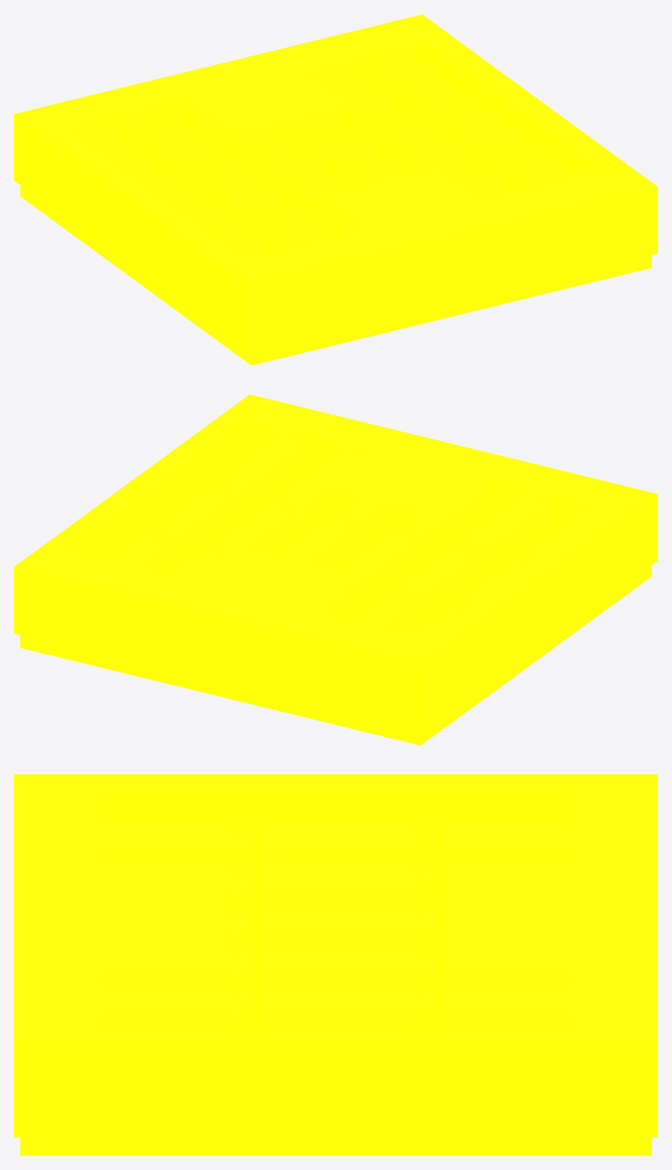
The model's file is cracker-box-christmas.glb.
3 renders of one model, top to bottom at view 1: azimuth 30°, elevation 25°; view 2: azimuth 150°, elevation 25°; view 3: azimuth 270°, elevation 25°, orthographic. The views are drawn at different scales.
Parts seen in each view (by area): view 1: cracker_box_christmas; view 2: cracker_box_christmas; view 3: cracker_box_christmas.
Part boxes in pixels (x1=…): cracker_box_christmas: x1=14, y1=14, x2=657, y2=365; cracker_box_christmas: x1=14, y1=394, x2=657, y2=745; cracker_box_christmas: x1=14, y1=774, x2=657, y2=1155.
Bounding box in the file's own units: 0.3309 × 0.0633 × 0.3309.
1 material, 1 textured.
